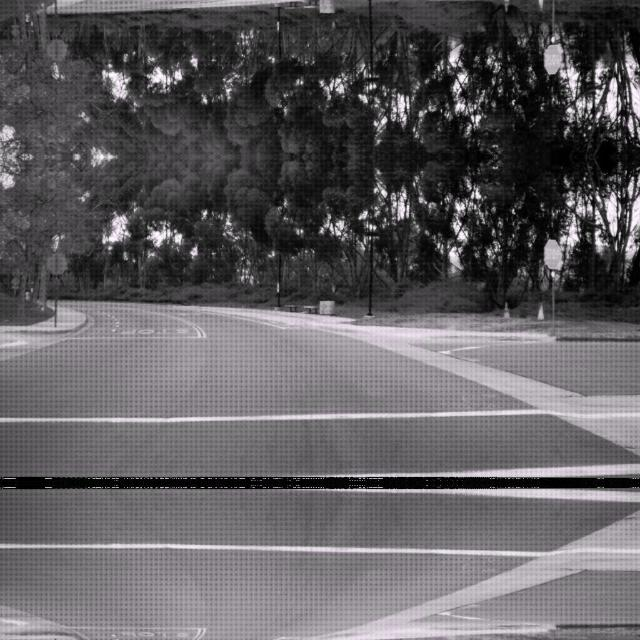stop: (543, 237, 561, 267), (543, 45, 561, 75)
